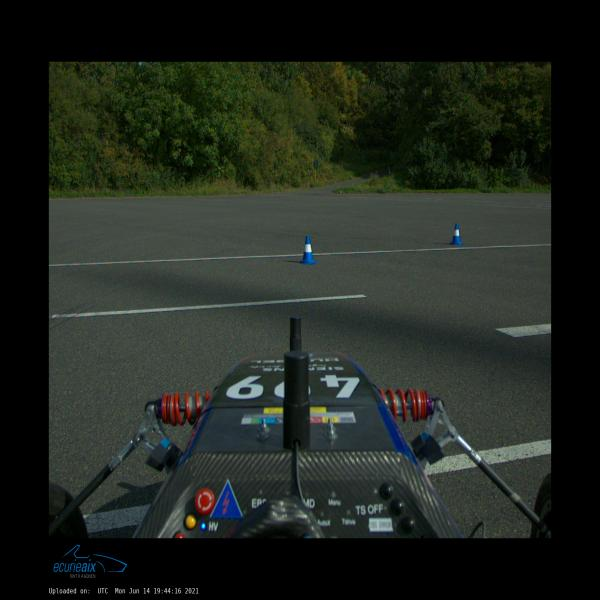blue_cone: (298, 236, 317, 264), (449, 224, 464, 245)
